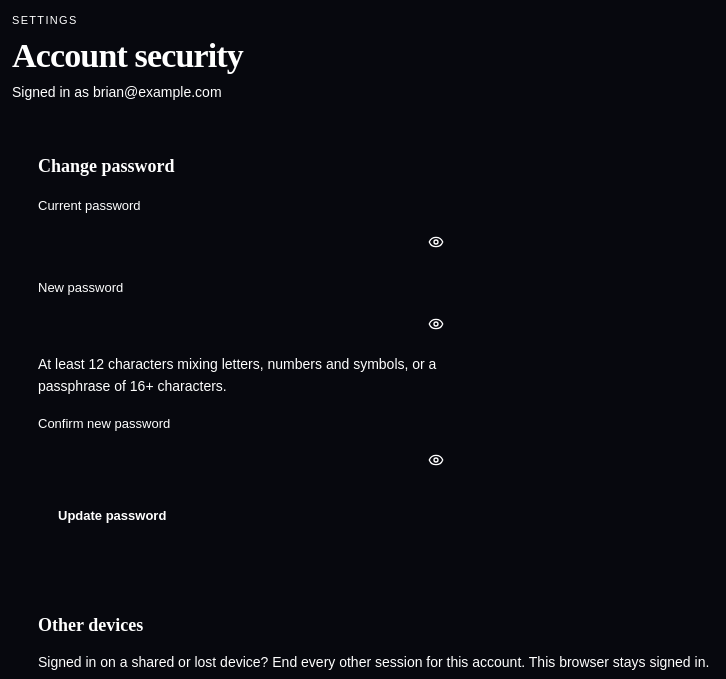
change password › re-authenticates, then updates the password and clears the form
Type "Old-Password-2025" into the password field labelled "Current password" at coordinates (248, 242), box x1=38 y1=222 x2=458 y2=262
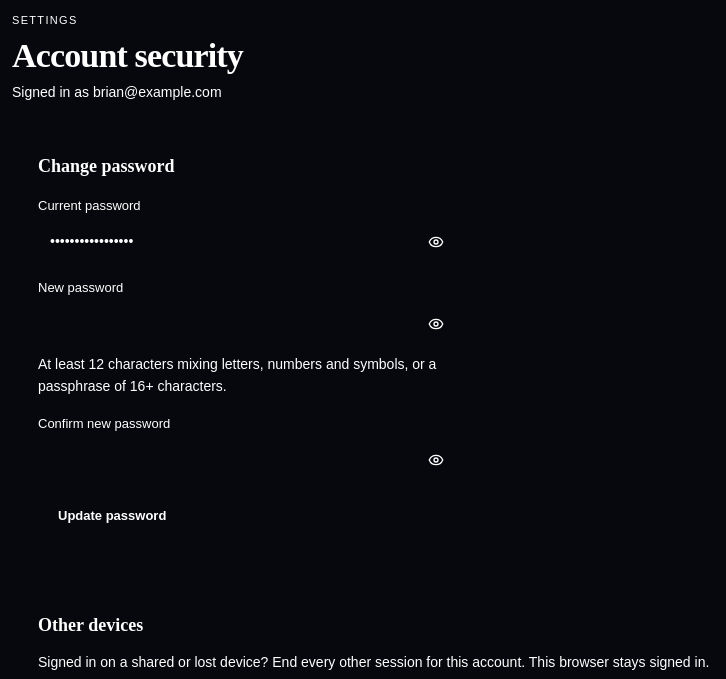
Type "Harbor-Lantern-2026" into the password field labelled "New password" at coordinates (248, 324), box x1=38 y1=304 x2=458 y2=345
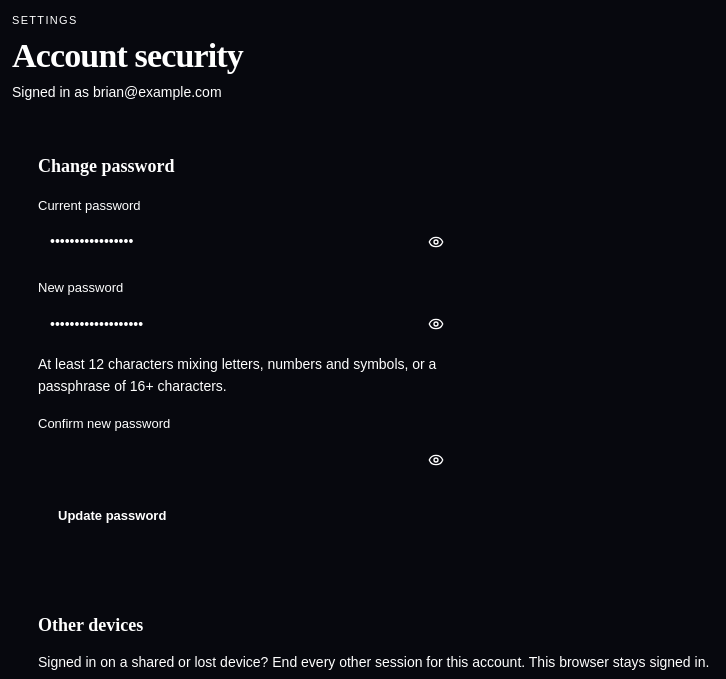
Type "Harbor-Lantern-2026" into the password field labelled "Confirm new password" at coordinates (248, 460), box x1=38 y1=439 x2=458 y2=480
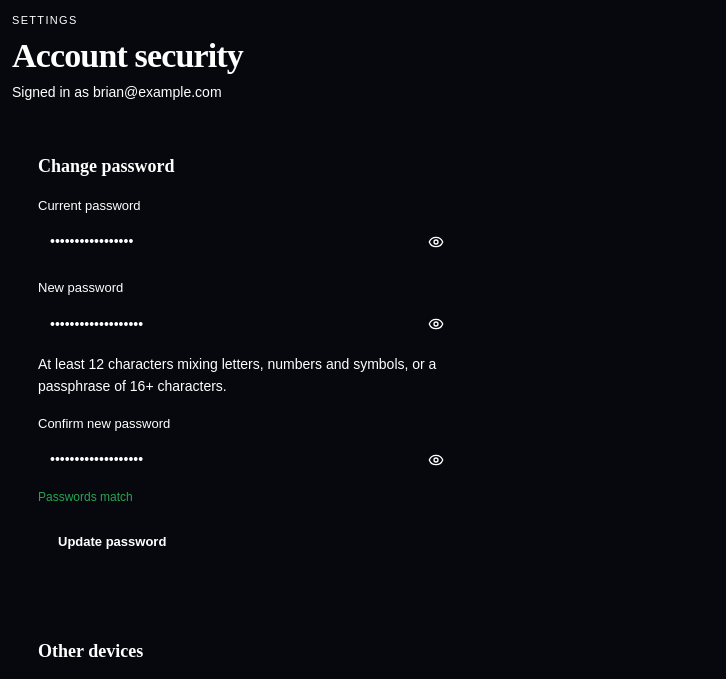
Click the button "Update password" at coordinates (112, 542), box x1=38 y1=522 x2=186 y2=562
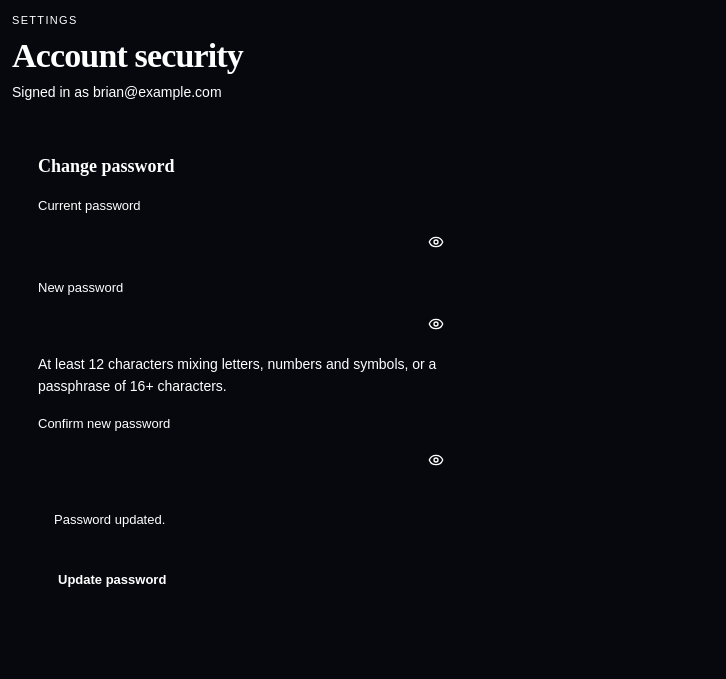
Expected: the text "Password updated." is shown, x1=54 y1=512 x2=165 y2=527
Expected: the password field labelled "Current password" is empty, x1=38 y1=222 x2=458 y2=262
Expected: the password field labelled "New password" is empty, x1=38 y1=304 x2=458 y2=345
